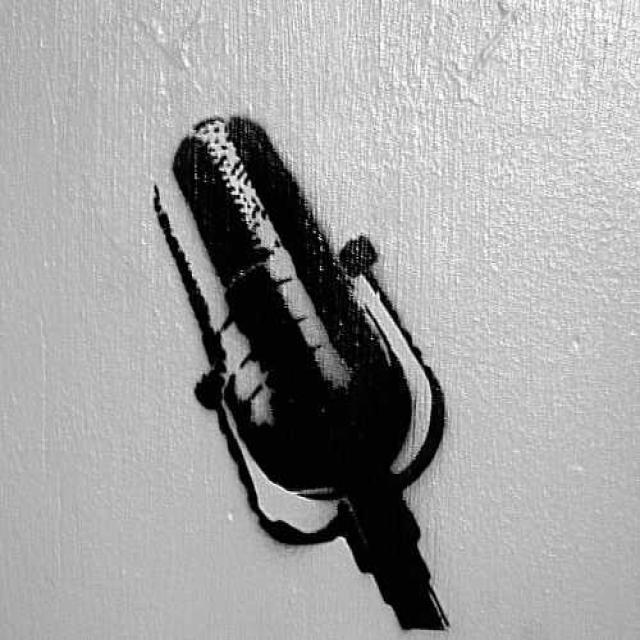microphone: (157, 93, 511, 579)
